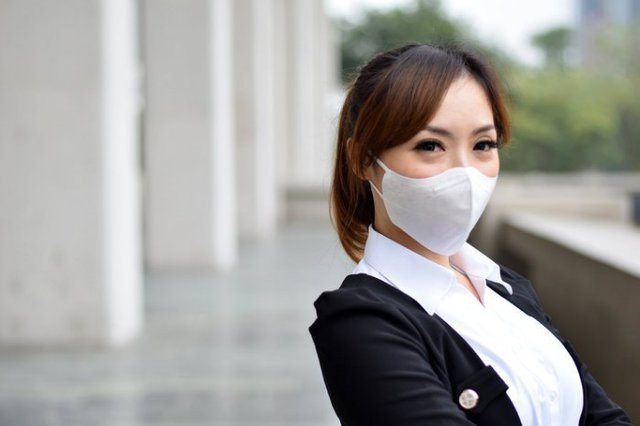mask: (382, 176, 504, 257)
